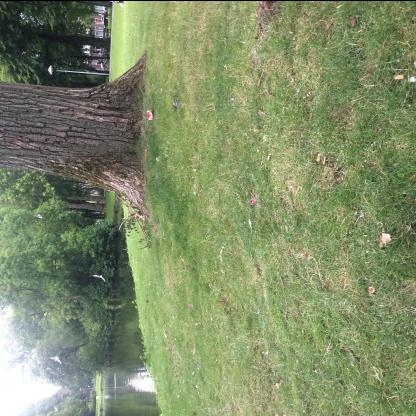metal: (146, 109, 154, 119)
